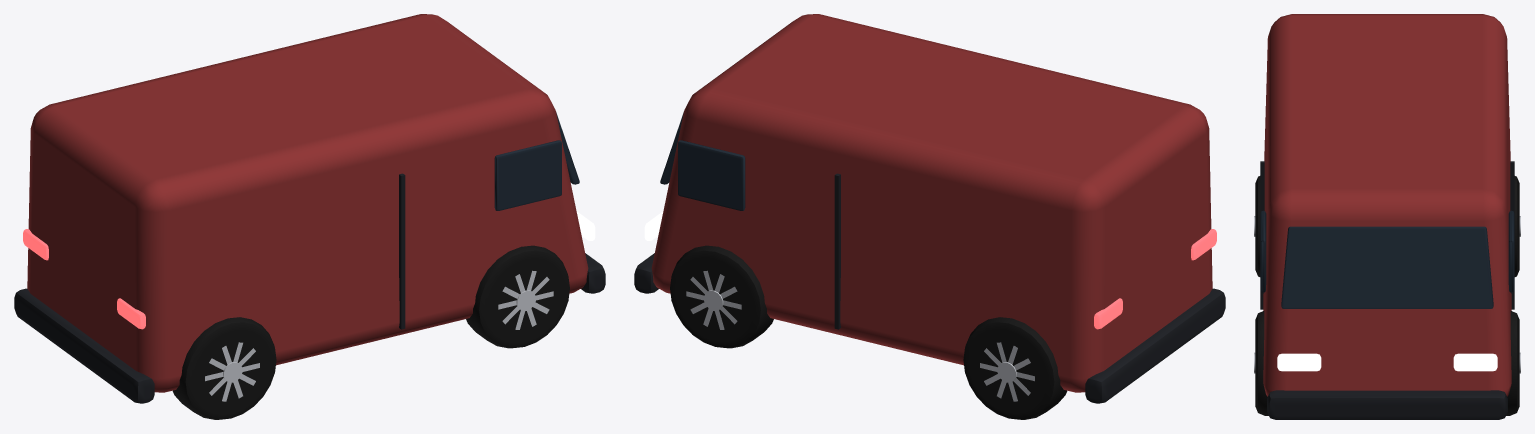
Rendered from van.glb.
3 renders of one model, left to right at view 1: azimuth 30°, elevation 25°; view 2: azimuth 150°, elevation 25°; view 3: azimuth 270°, elevation 25°, orthographic. The views are drawn at different scales.
Visible parts, largest first — view 1: part-paint, wheel--11--1-tyre, wheel-+11--1-tyre, part-trim, part-glass, wheel--11--1-hub, wheel-+11--1-hub, part-taillight; view 2: part-paint, wheel--11-1-tyre, wheel-+11-1-tyre, part-trim, part-glass, wheel--11-1-hub, wheel-+11-1-hub, part-taillight; view 3: part-paint, part-glass, part-trim, wheel-+11-1-tyre, wheel-+11--1-tyre, headlight-1, headlight--1, wheel--11-1-tyre, wheel--11--1-tyre.
Boxes of the visible parts, <box> form: part-paint: <box>27,14,588,392</box>; wheel--11--1-tyre: <box>172,317,276,419</box>; wheel-+11--1-tyre: <box>466,245,569,348</box>; part-trim: <box>14,173,605,403</box>; part-glass: <box>494,112,579,210</box>; wheel--11--1-hub: <box>205,342,259,401</box>; wheel-+11--1-hub: <box>498,270,553,329</box>; part-taillight: <box>23,229,145,329</box>; part-paint: <box>651,14,1212,392</box>; wheel--11-1-tyre: <box>963,317,1067,419</box>; wheel-+11-1-tyre: <box>670,245,773,348</box>; part-trim: <box>634,173,1225,403</box>; part-glass: <box>660,112,745,210</box>; wheel--11-1-hub: <box>980,342,1034,401</box>; wheel-+11-1-hub: <box>686,270,741,329</box>; part-taillight: <box>1094,229,1216,329</box>; part-paint: <box>1263,14,1511,396</box>; part-glass: <box>1260,210,1514,308</box>; part-trim: <box>1260,161,1514,419</box>; wheel-+11-1-tyre: <box>1506,311,1519,415</box>; wheel-+11--1-tyre: <box>1255,311,1268,415</box>; headlight-1: <box>1453,353,1497,371</box>; headlight--1: <box>1277,353,1321,371</box>; wheel--11-1-tyre: <box>1514,176,1519,276</box>; wheel--11--1-tyre: <box>1255,176,1260,276</box>.
Size of the model in its own units: 35.4 by 17.4 by 18.17.
